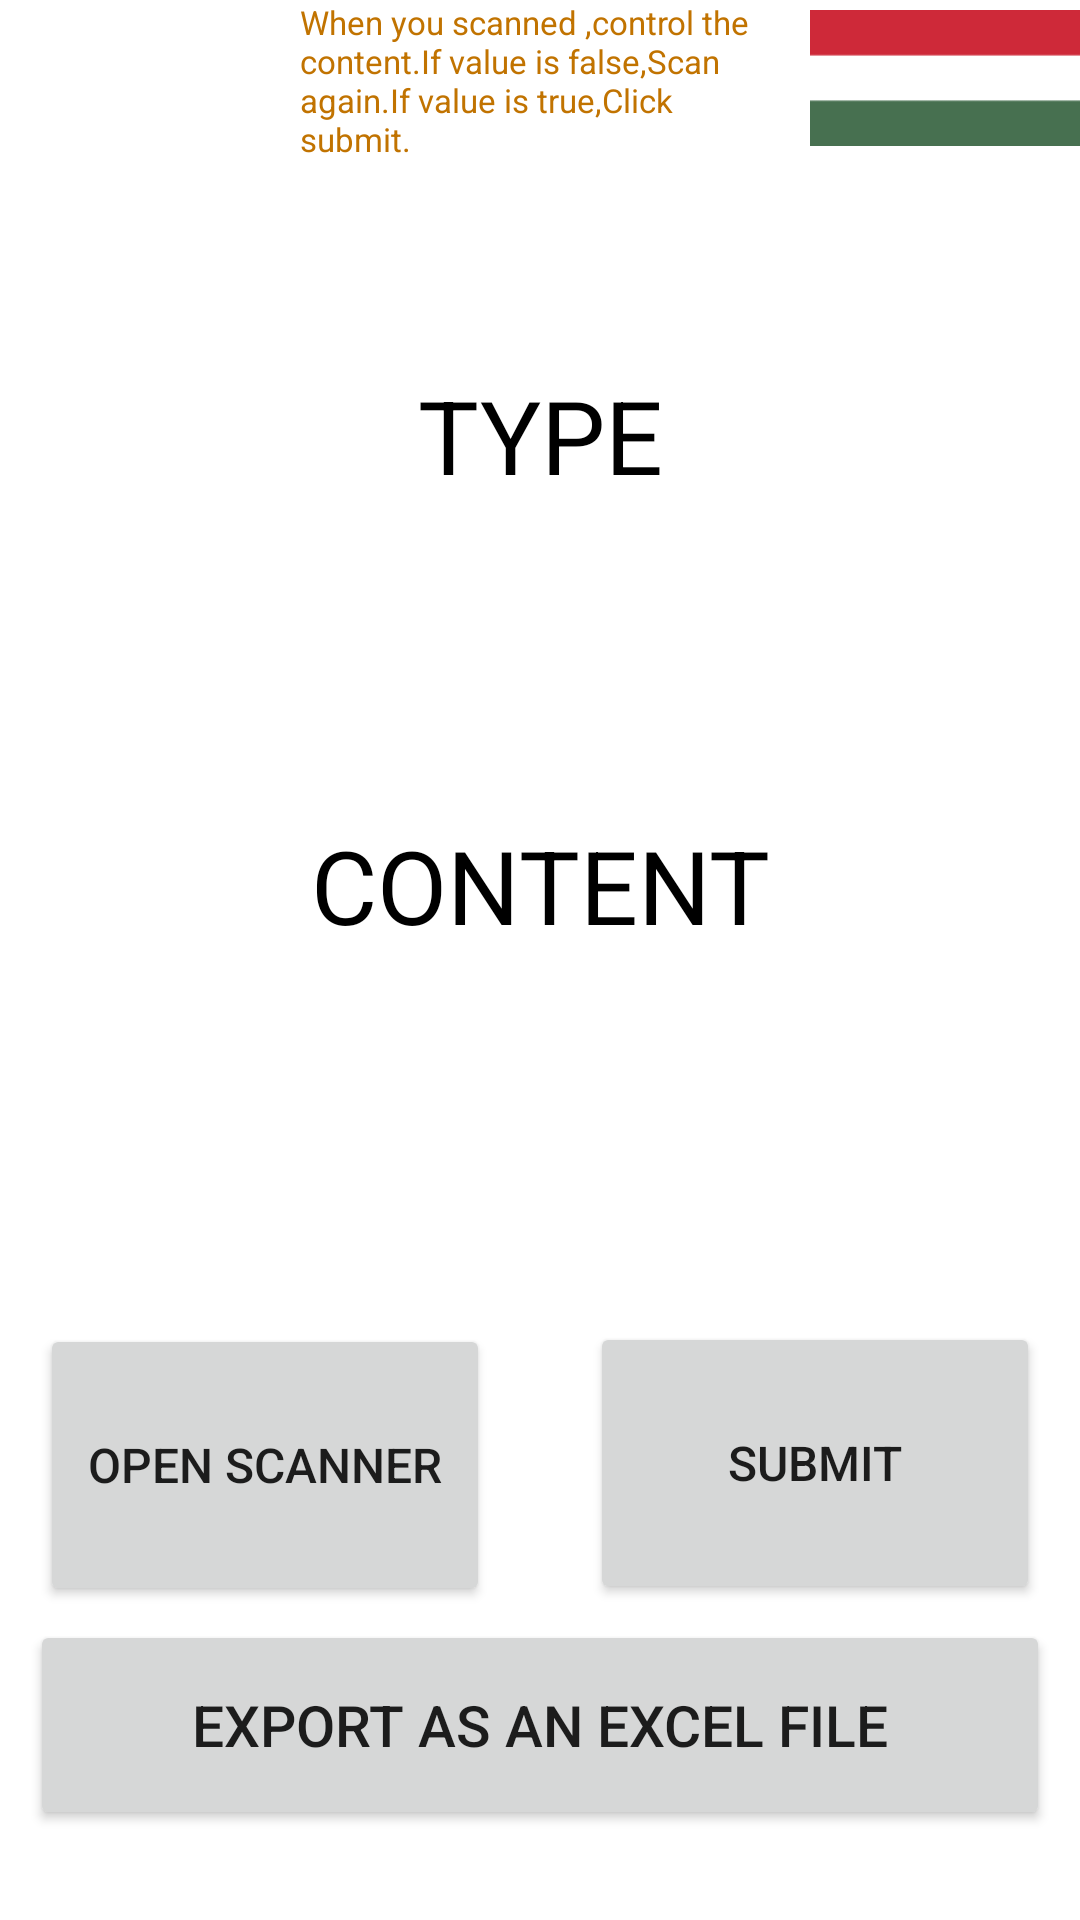

Icons on this 1080px×1920px Android screen, each with its box as (x1, y1, x2, y2):
hun: (810, 10, 1080, 146)
